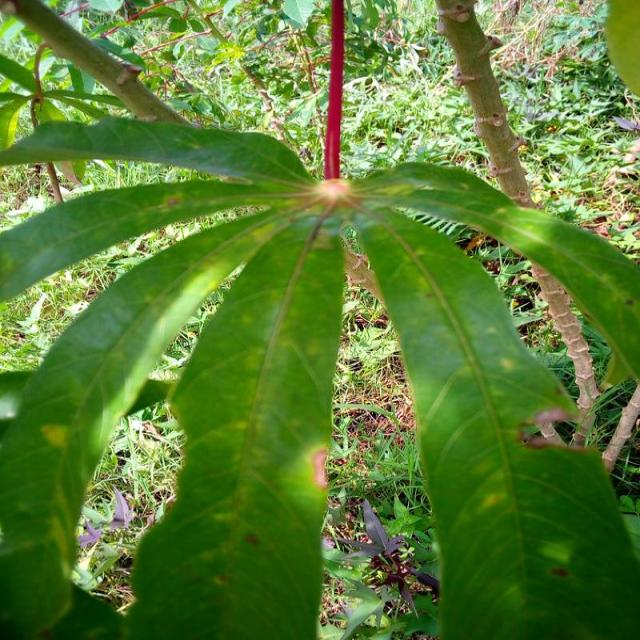cassava leaf: (0, 110, 638, 638), (351, 196, 638, 638), (122, 208, 345, 638)
